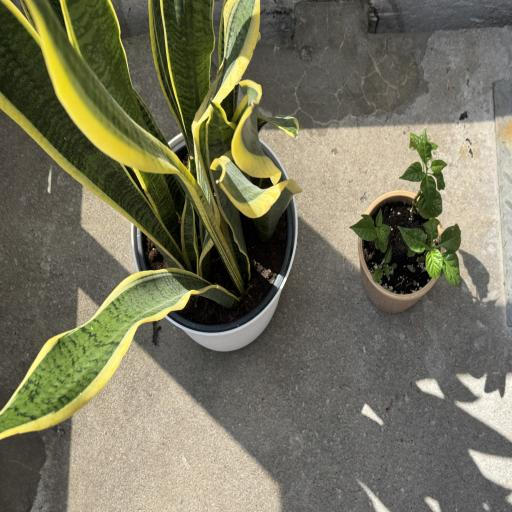Plant Pot: (128, 127, 299, 352), (356, 193, 445, 310)
